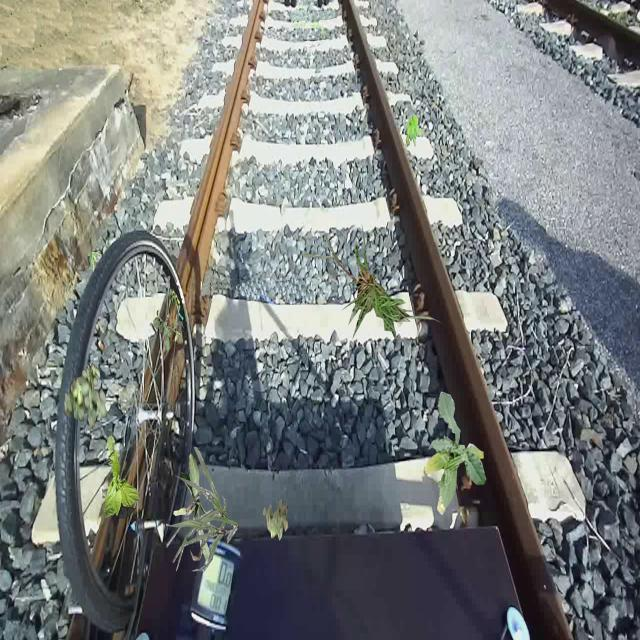Plant: (301, 223, 444, 342), (166, 447, 239, 572), (424, 391, 486, 516), (173, 453, 213, 563), (104, 436, 140, 520), (64, 363, 108, 430), (153, 311, 180, 352), (263, 498, 289, 540), (405, 114, 426, 147), (88, 251, 102, 272)
